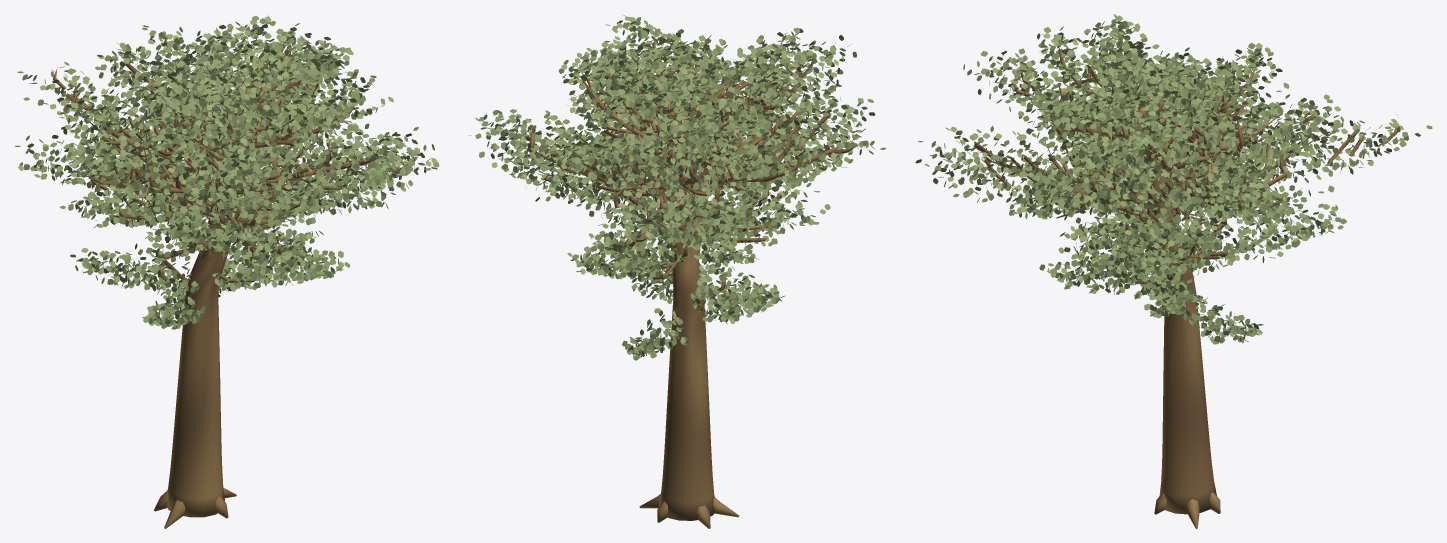
The model's file is open_green_lod0.glb.
3 renders of one model, left to right at view 1: azimuth 30°, elevation 25°; view 2: azimuth 150°, elevation 25°; view 3: azimuth 270°, elevation 25°, orthographic. The views are drawn at different scales.
Visible parts, largest first — view 1: Leaves.006, Trunk.006; view 2: Leaves.006, Trunk.006; view 3: Leaves.006, Trunk.006.
Boxes of the visible parts, x1,y1,x2,y2 form: Leaves.006: (14, 15, 439, 329); Trunk.006: (53, 40, 417, 528); Leaves.006: (469, 14, 886, 360); Trunk.006: (525, 40, 857, 528); Leaves.006: (915, 14, 1432, 344); Trunk.006: (974, 44, 1397, 528).
Bounding box in the file's own units: 4.78 × 5.75 × 5.79.
